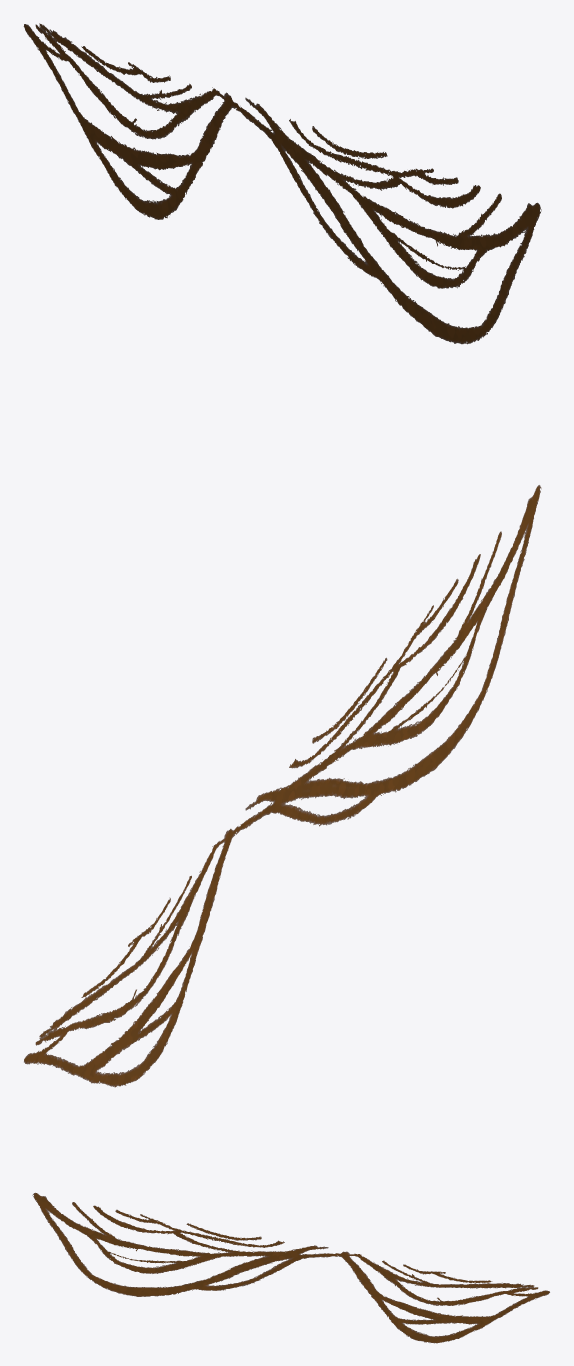
File: SM_Rope_A03.fbx
3 views of the same model, one above another, from view 1: azimuth 30°, elevation 25°; view 2: azimuth 150°, elevation 25°; view 3: azimuth 270°, elevation 25° (orthographic). The views are drawn at different scales.
Visible parts, largest first — view 1: SM_Rope_A03_LOD0; view 2: SM_Rope_A03_LOD0; view 3: SM_Rope_A03_LOD0.
Part boxes in pixels (box(x1,y1,x2,y2)): SM_Rope_A03_LOD0: box(23, 23, 541, 344); SM_Rope_A03_LOD0: box(24, 485, 541, 1087); SM_Rope_A03_LOD0: box(32, 1192, 549, 1343).
Bounding box in the file's own units: 5.04e-05 × 895 × 298.
Materials: 1 (1 with a texture image).
